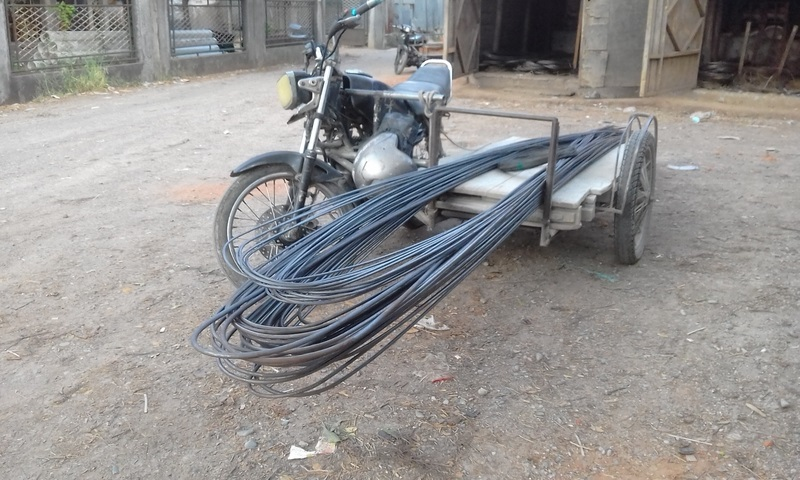becak barang: (207, 1, 674, 307), (388, 19, 448, 80)
